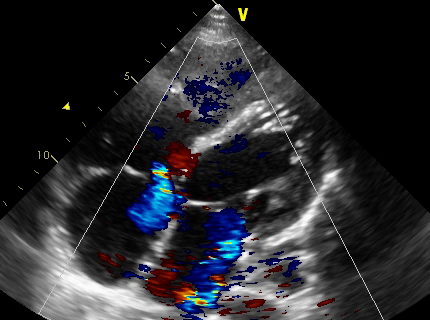TR: (90, 161, 174, 226)
